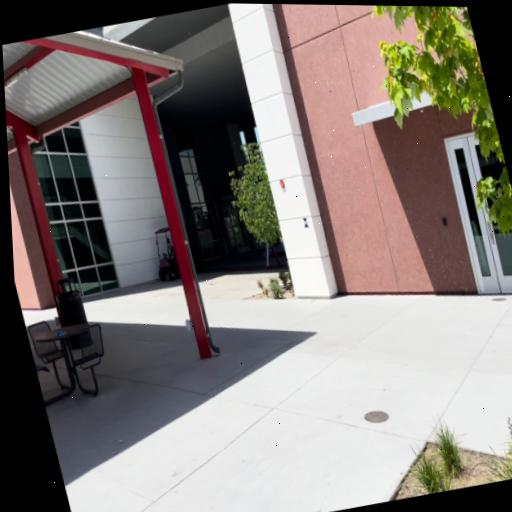target9: (302, 217, 310, 229)
